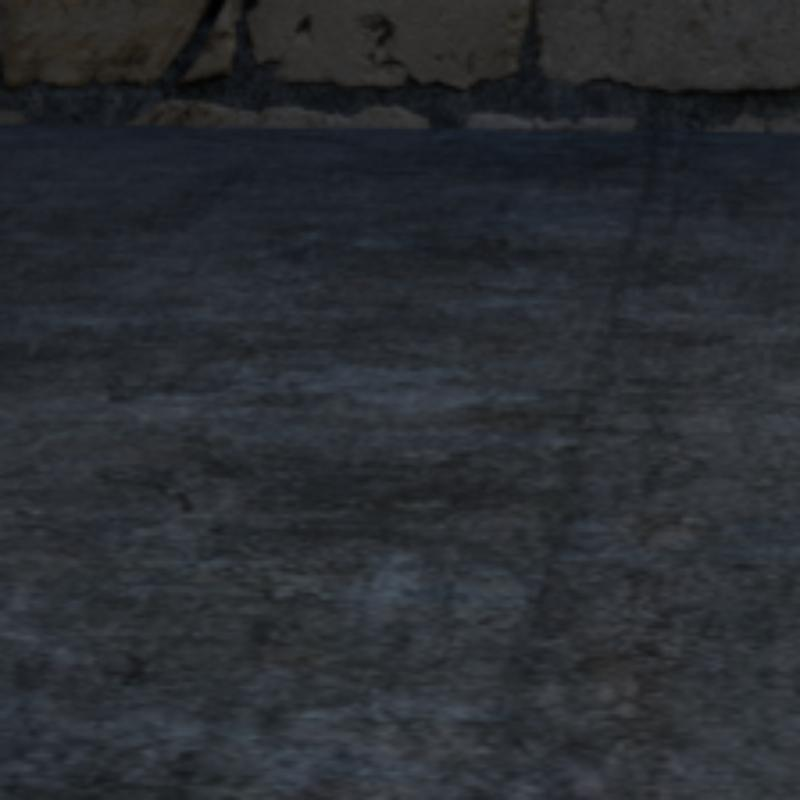pothole: (168, 0, 221, 86)
